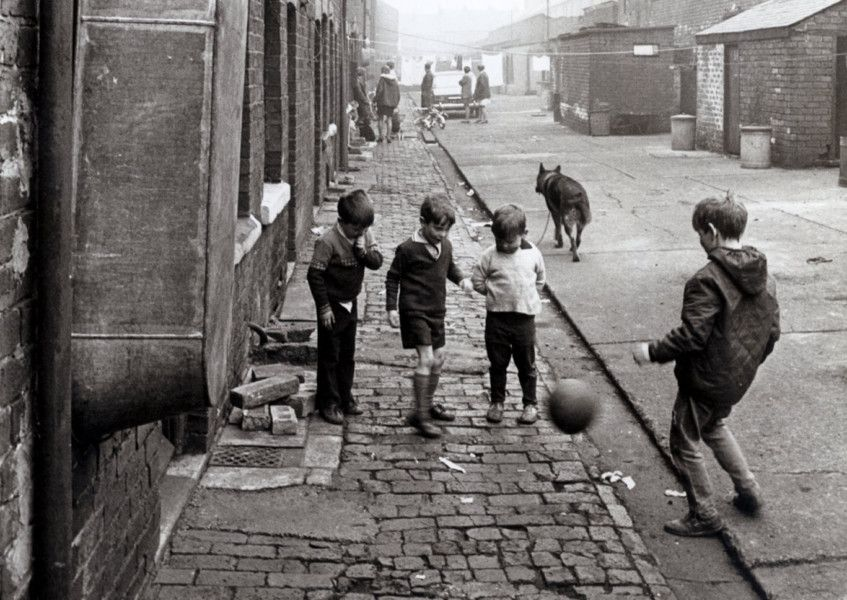Person: (650, 183, 783, 545), (296, 187, 390, 430), (389, 186, 475, 442), (461, 197, 552, 424)
